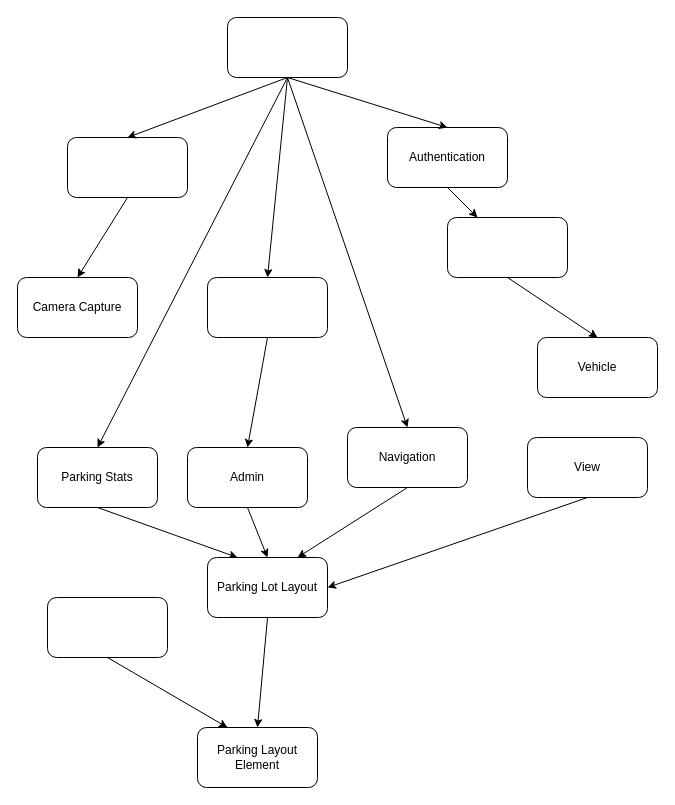
Some shapes in this 675 by 805 pixel diagram are drawn without their labels. The box of each missing label's shape, as (x1, y1, x2, y2) in pixels:
Admin Console: (206, 276, 328, 338)
Machine Learning Model: (66, 136, 188, 198)
Parking Spot: (46, 596, 168, 658)
User: (446, 216, 568, 278)
User Action Handler: (226, 16, 348, 78)
